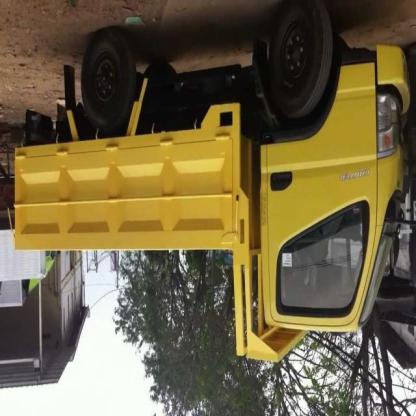truck: (17, 9, 411, 370)
